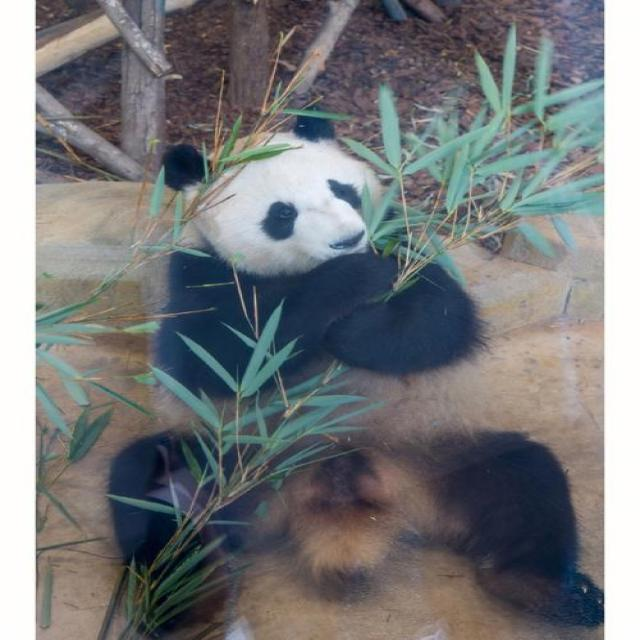panda: (104, 110, 604, 640)
